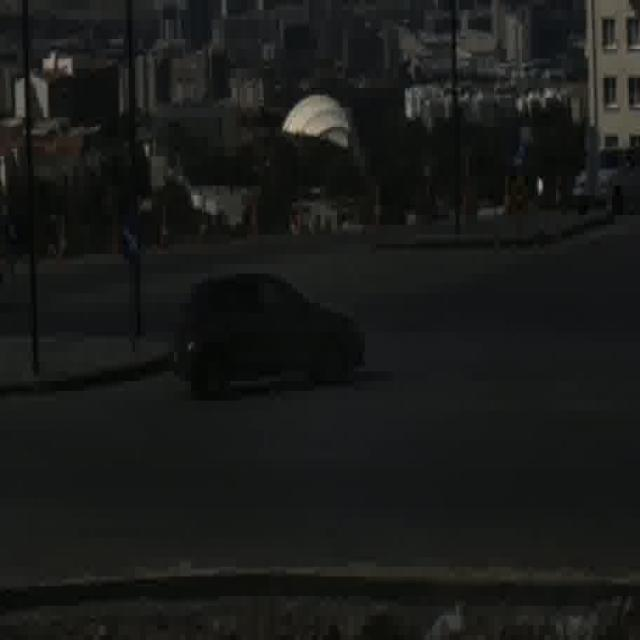Car: (174, 274, 365, 396), (571, 150, 639, 210)
